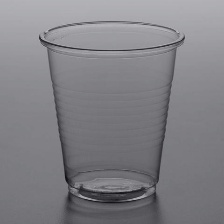glass: (33, 16, 188, 212)
